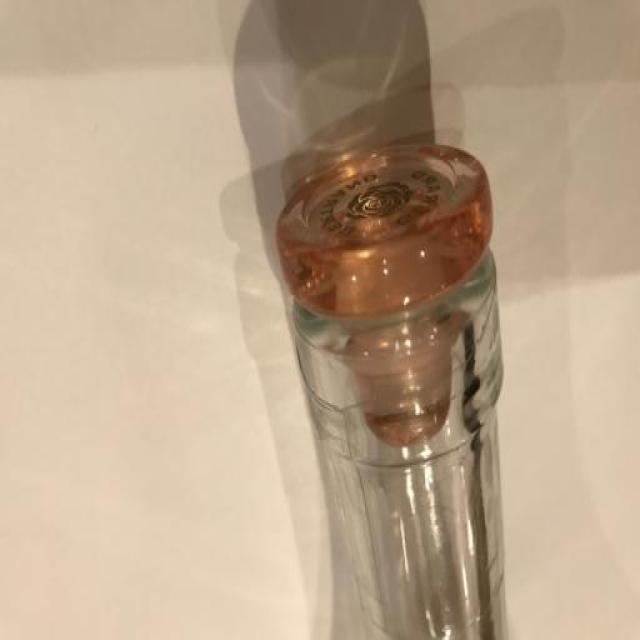glass: (275, 137, 505, 640)
